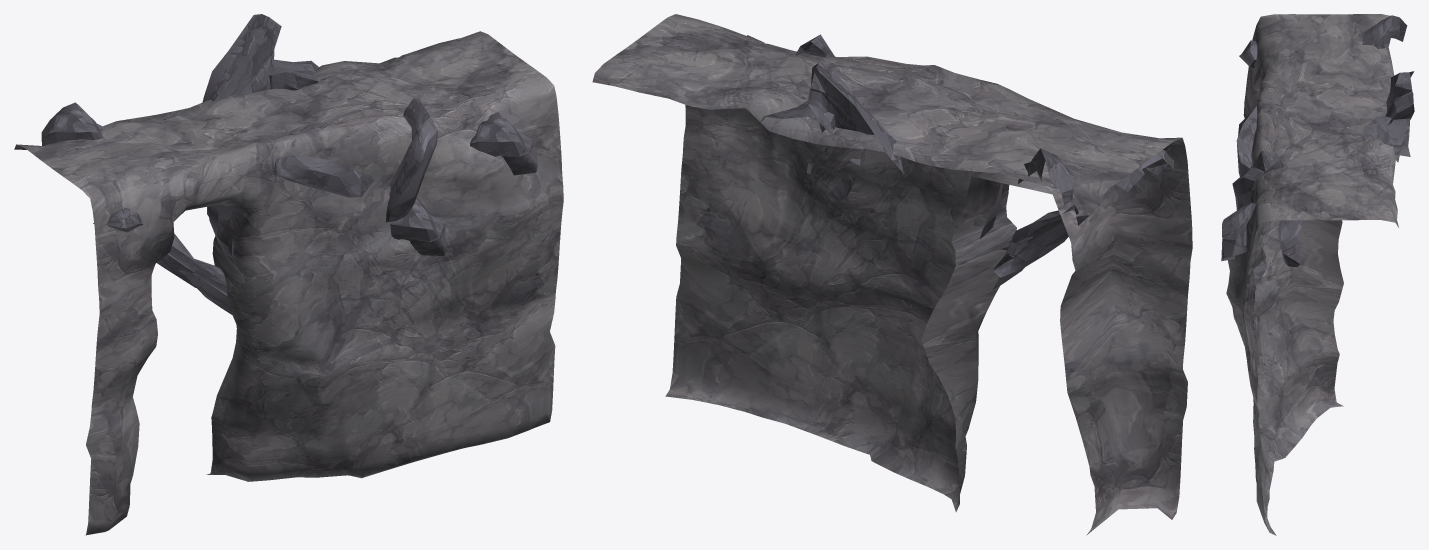
The model's file is GroundNarrow2.fbx.
3 renders of one model, left to right at view 1: azimuth 30°, elevation 25°; view 2: azimuth 150°, elevation 25°; view 3: azimuth 270°, elevation 25°, orthographic. The views are drawn at different scales.
Parts seen in each view (by area): view 1: GroundNarrow2; view 2: GroundNarrow2; view 3: GroundNarrow2.
Part boxes in pixels (x1,y1,x2,y2): GroundNarrow2: (14, 14, 563, 535); GroundNarrow2: (592, 14, 1192, 535); GroundNarrow2: (1221, 14, 1414, 535).
Bounding box in the file's own units: 10.1 × 8.57 × 3.96.
3 materials, 3 textured.
